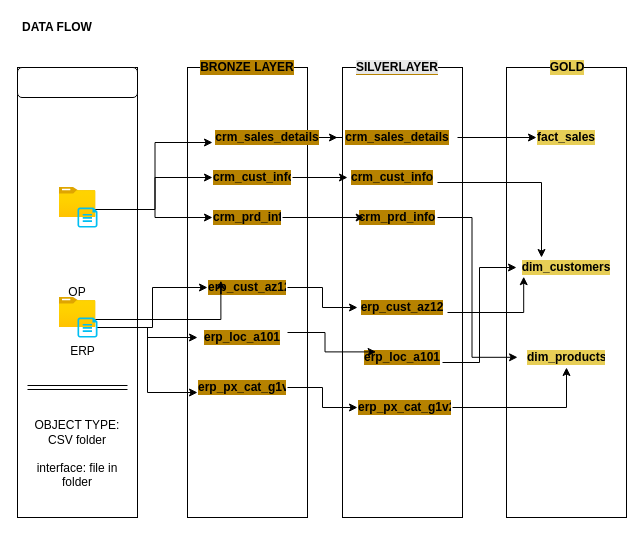
The diagram is 644 pixels wide and 535 high, and some of its shapes have lost their labels. Each missing label, with the centre of its shape:
"CRM" goes at pixel 87 217.
"source" goes at pixel 77 82.
